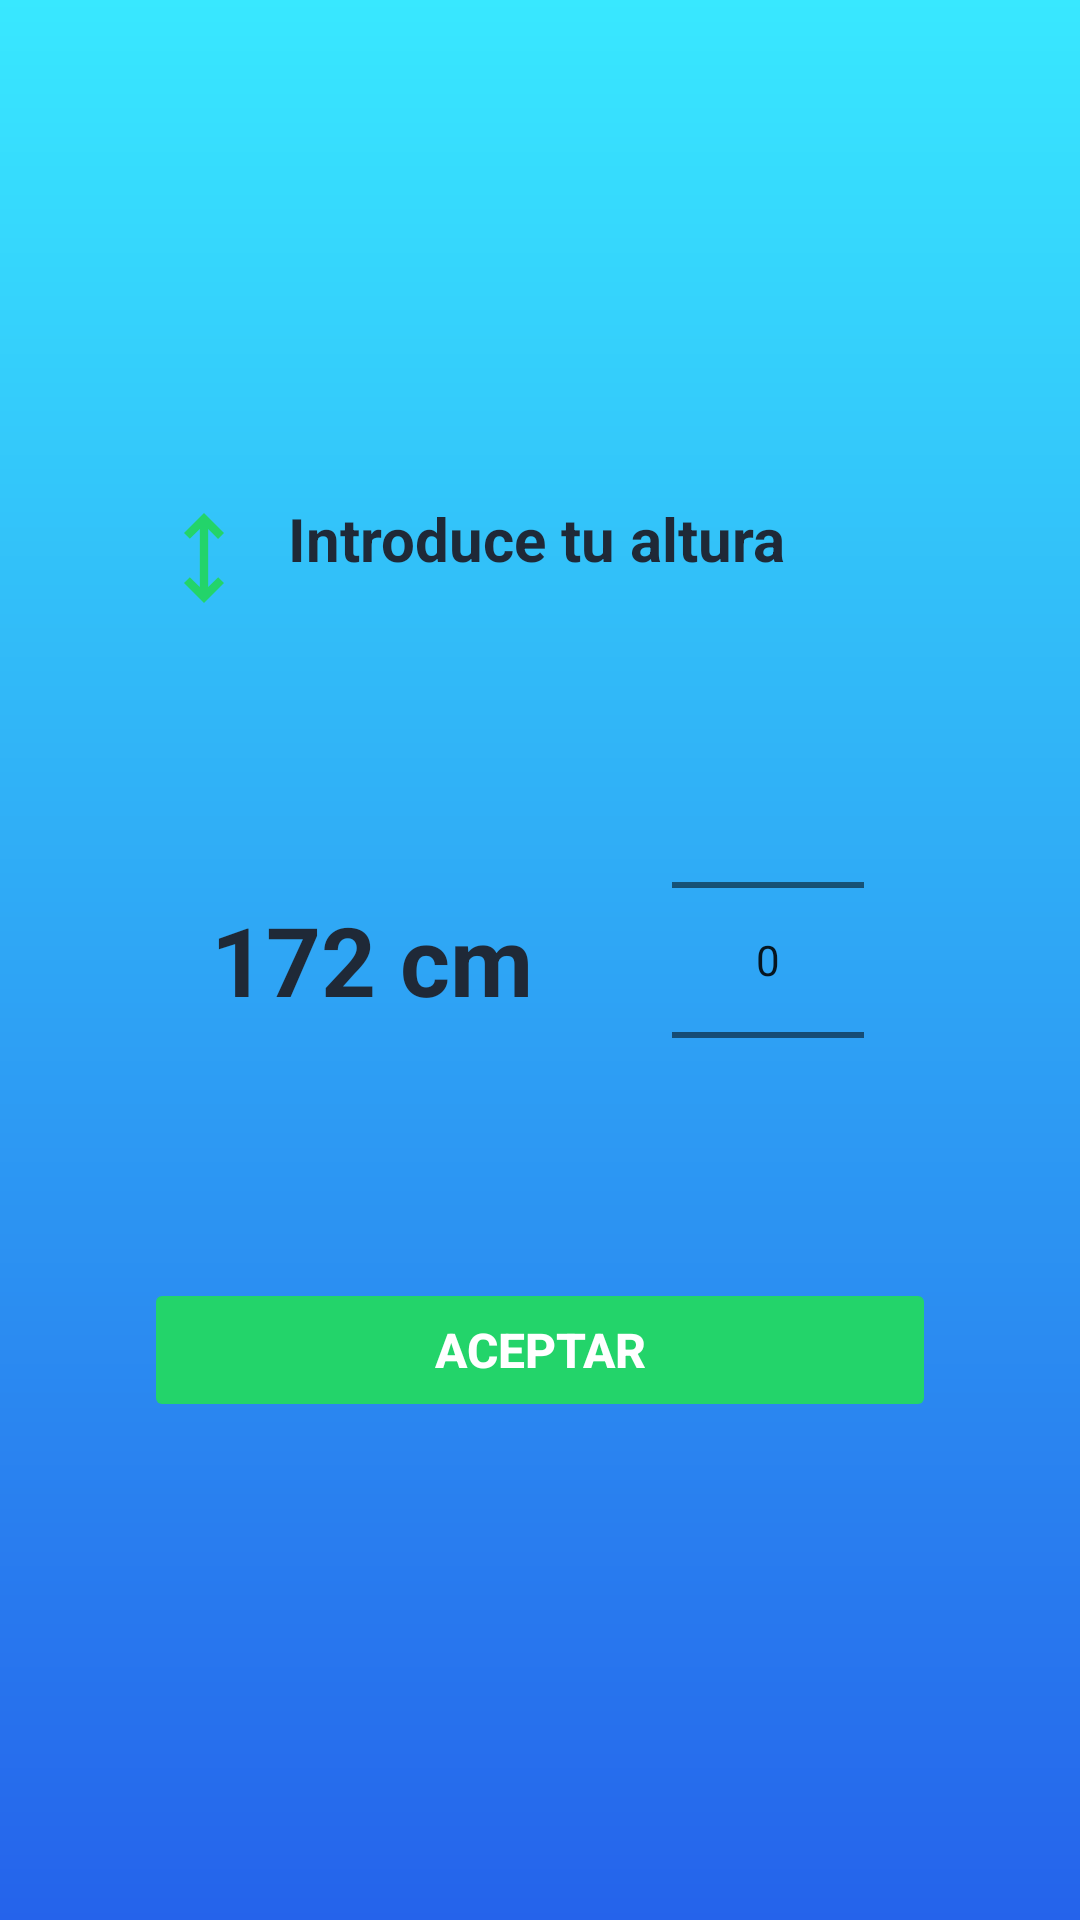

Where to tap for icons on this 1080 × 1920 app screen, as point (x, y):
height: point (204, 558)
